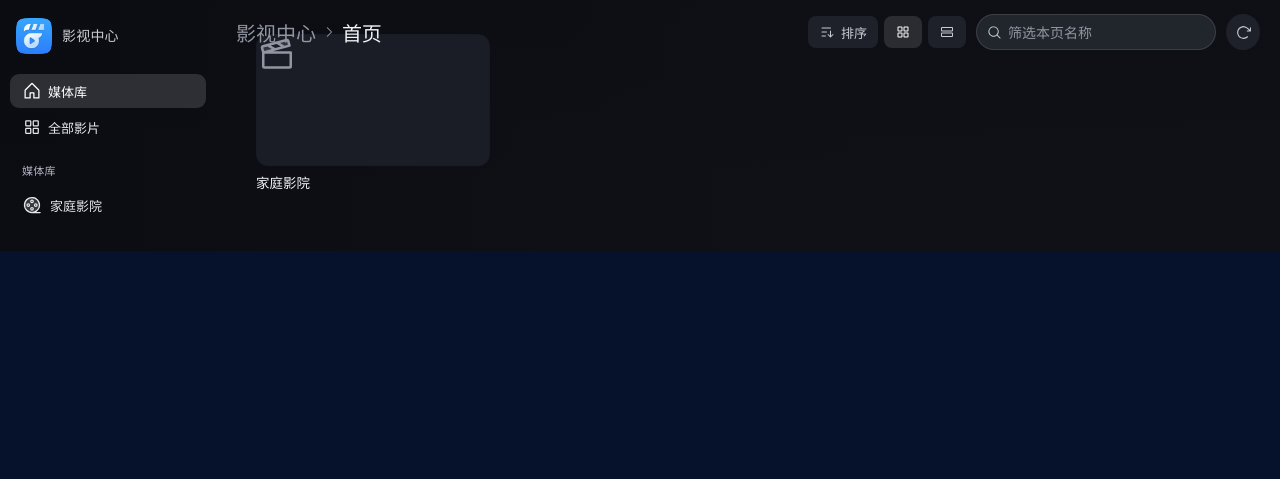
Test: aggregates all films without passing pagination to the unpaged library endpoint
The width and height of the screenshot is (1280, 479).
What coordinates should you click on to do the following:
click the button "全部影片"
I would click on:
 (108, 127)
Its box is [10,110,206,144].
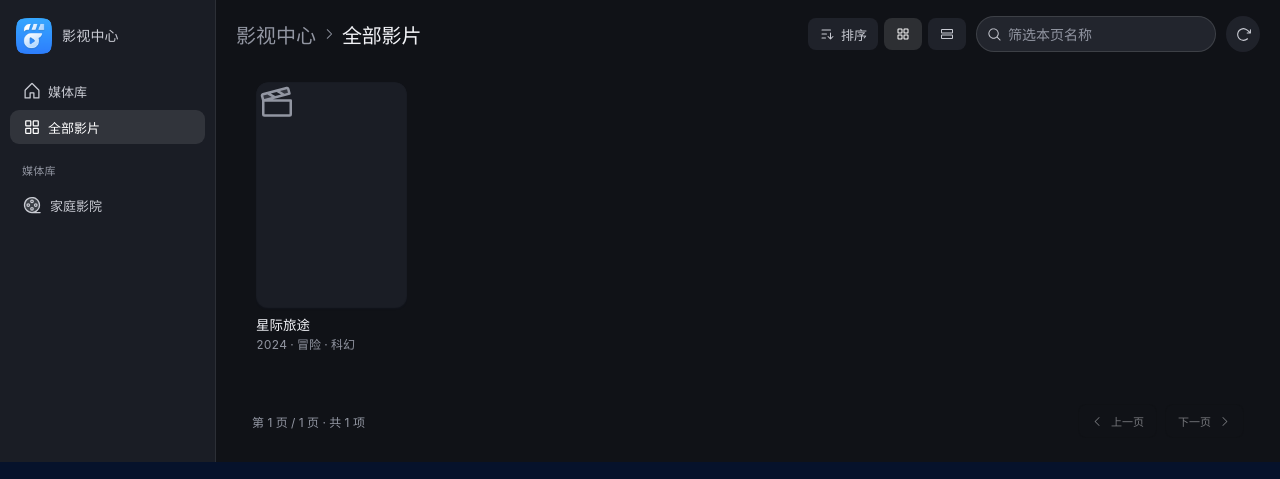
Expected: the button "星际旅途 2024 · 冒险 · 科幻" is shown, [256,82,407,354]
Expected: the text "全部影片" is shown, [342,20,421,48]
